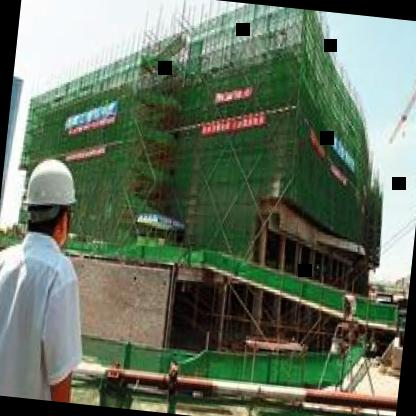helmet: (16, 147, 84, 245)
